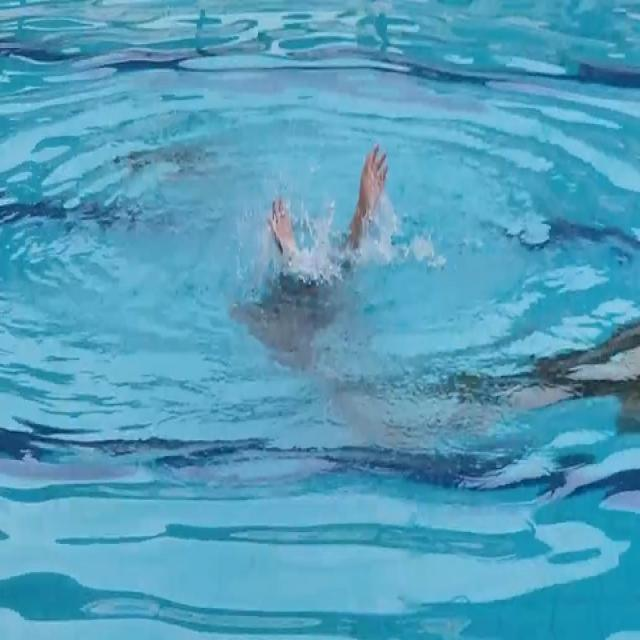Drowning: (260, 139, 396, 287)
